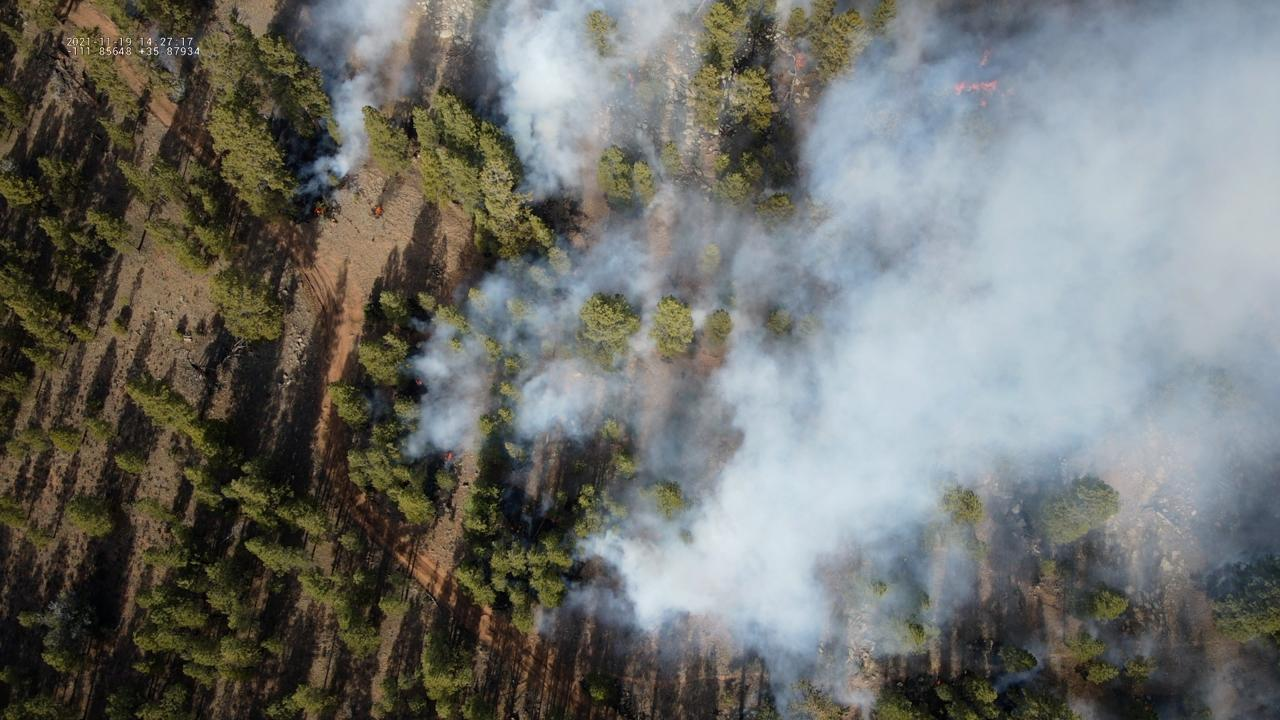fire: (953, 79, 998, 97), (792, 54, 808, 72), (980, 49, 992, 67), (627, 70, 636, 88), (442, 451, 453, 463), (374, 206, 384, 219), (313, 207, 324, 215), (414, 378, 423, 386), (980, 99, 988, 108), (937, 680, 941, 686)
smoke: (279, 0, 1280, 720), (143, 32, 202, 78)
